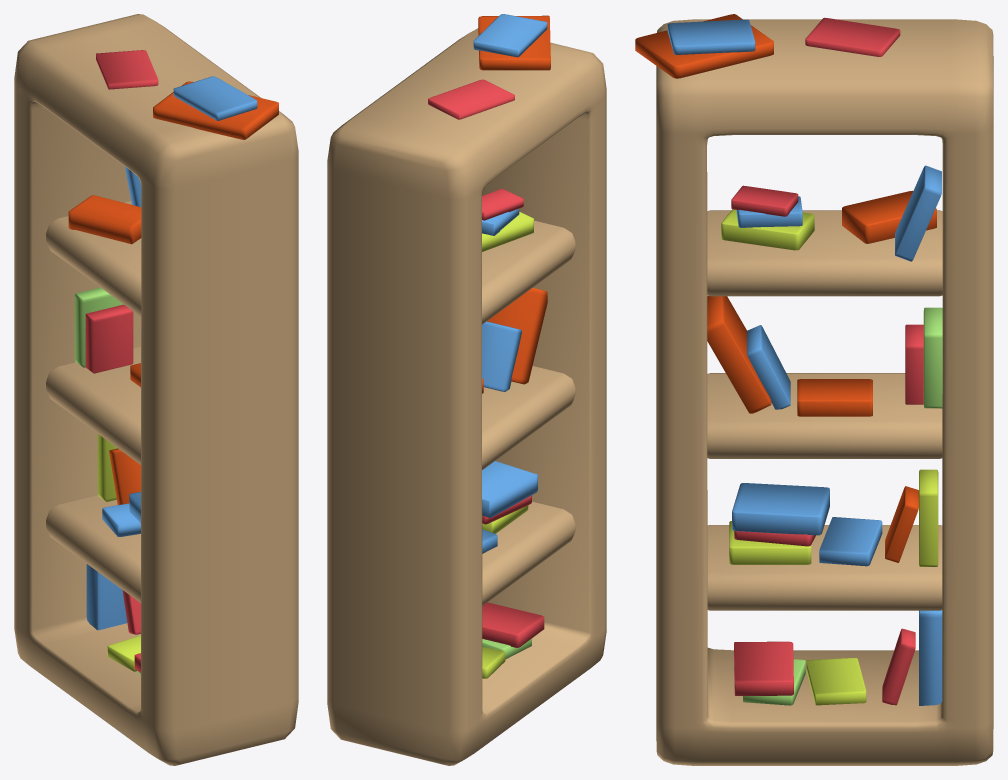
Rendered from 3DModel_LElement_Text2.glb.
3 views of the same model, side by side, from view 1: azimuth 30°, elevation 25°; view 2: azimuth 150°, elevation 25°; view 3: azimuth 270°, elevation 25° (orthographic). The views are drawn at different scales.
Visible parts, largest first — view 1: Shelf_With_Extra_Books, Book.050, Book, Book.049, Book.045, Book.027, Book.035, Book.026, Book.024, Book.031, Book.047, Book.039 (+4 smaller); view 2: Shelf_With_Extra_Books, Book.050, Book.049, Book, Book.048, Book.041, Book.046, Book.026, Book.028, Book.024, Book.027, Book.038 (+3 smaller); view 3: Shelf_With_Extra_Books, Book.049, Book.050, Book, Book.041, Book.048, Book.028, Book.027, Book.044, Book.026, Book.033, Book.024 (+16 smaller).
Boxes of the visible parts, <box> form: Shelf_With_Extra_Books: <box>14,14,298,765</box>; Book.050: <box>46,346,140,464</box>; Book: <box>46,495,140,602</box>; Book.049: <box>46,201,141,316</box>; Book.045: <box>85,304,133,373</box>; Book.027: <box>153,81,278,139</box>; Book.035: <box>68,195,141,244</box>; Book.026: <box>173,76,257,120</box>; Book.024: <box>96,50,158,89</box>; Book.031: <box>86,564,127,630</box>; Book.047: <box>74,287,133,367</box>; Book.039: <box>109,448,140,504</box>; Shelf_With_Extra_Books: <box>327,28,606,765</box>; Book.050: <box>482,366,575,469</box>; Book.049: <box>482,220,575,324</box>; Book: <box>482,501,575,605</box>; Book.048: <box>487,288,547,384</box>; Book.041: <box>482,461,537,517</box>; Book.046: <box>482,321,521,391</box>; Book.026: <box>473,14,547,57</box>; Book.028: <box>482,602,544,647</box>; Book.024: <box>428,79,514,119</box>; Book.027: <box>478,15,550,70</box>; Book.038: <box>482,211,533,251</box>; Shelf_With_Extra_Books: <box>656,19,993,765</box>; Book.049: <box>707,210,942,296</box>; Book.050: <box>707,373,942,458</box>; Book: <box>707,525,942,610</box>; Book.041: <box>732,483,829,535</box>; Book.048: <box>707,296,771,413</box>; Book.028: <box>734,641,793,695</box>; Book.027: <box>635,14,773,78</box>; Book.044: <box>797,379,872,416</box>; Book.026: <box>667,19,755,54</box>; Book.033: <box>819,517,882,566</box>; Book.024: <box>805,17,900,56</box>.
Bounding box in the file's own units: 0.4764 × 2.06 × 0.9452.
